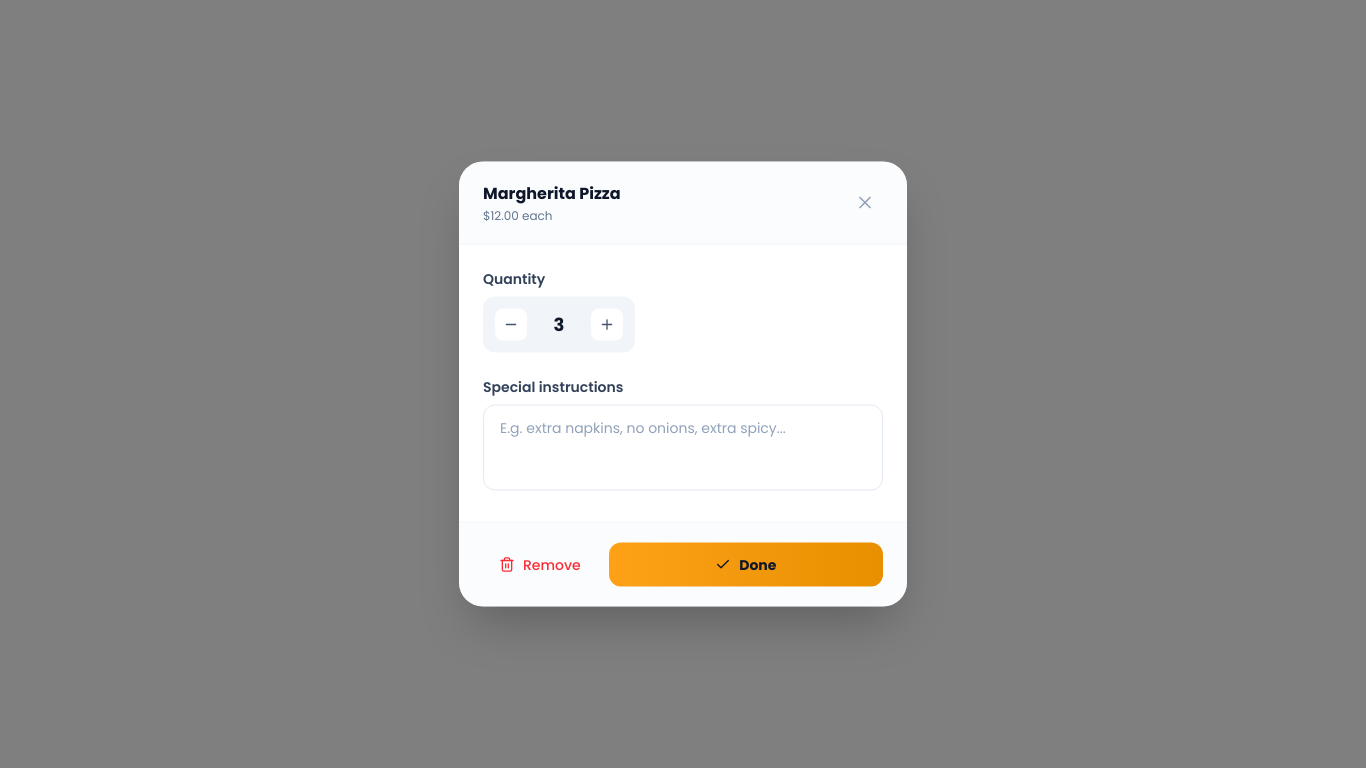
it: CartItemEditModal › decrement button decreases quantity
Click the button named "Decrease quantity": click(511, 324) [495,308,527,340]
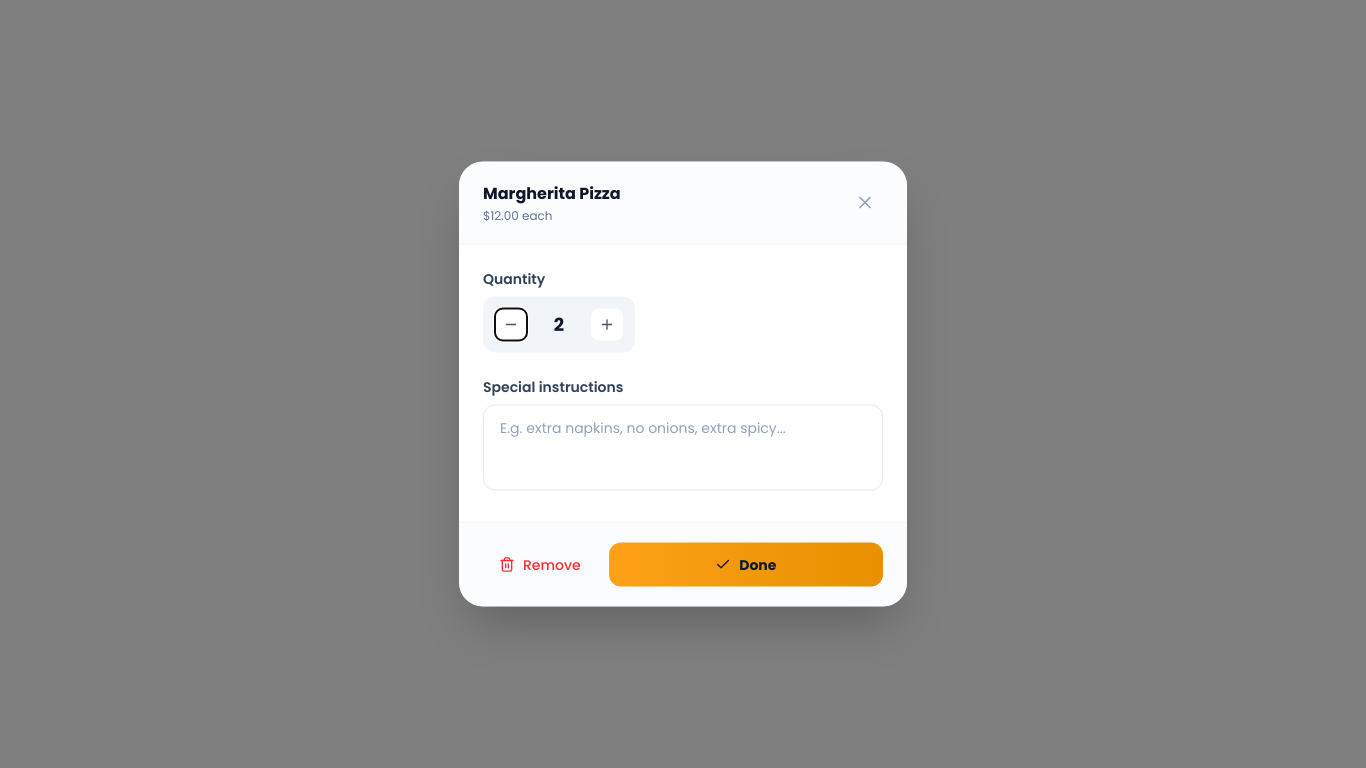
Expected: the text "2" is shown, [554,312,564,336]
